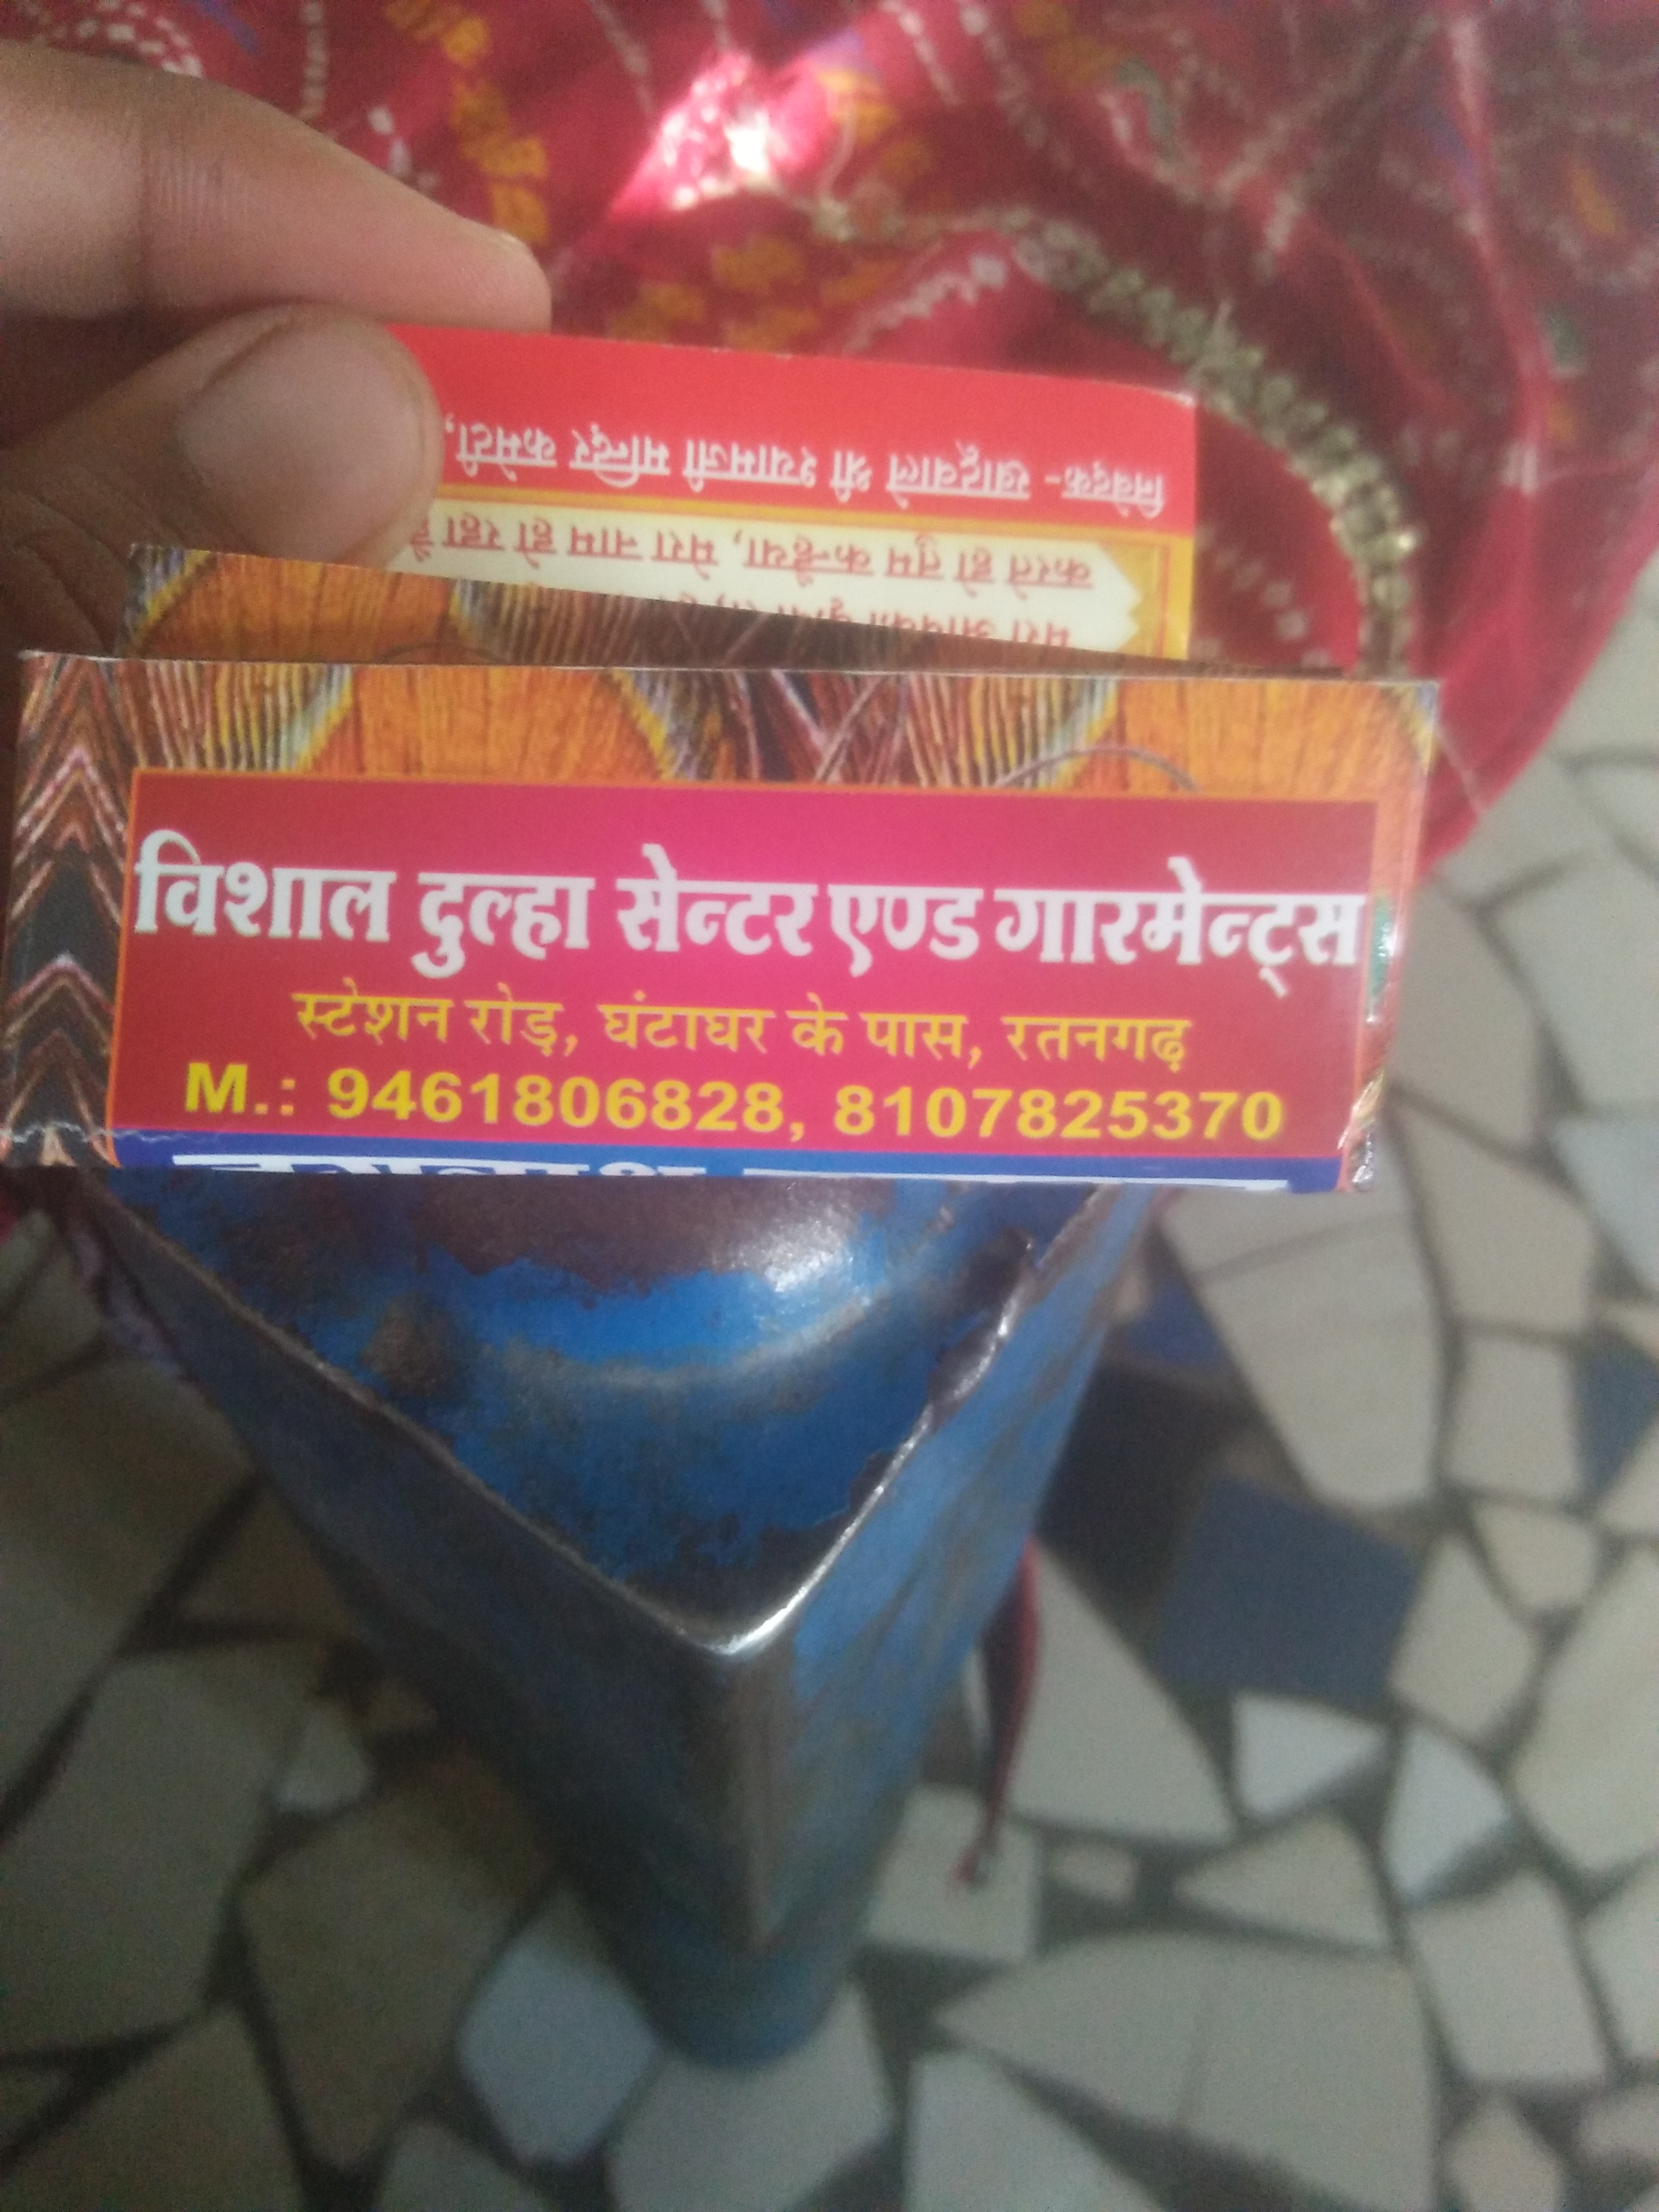text: (89, 726, 1425, 1200), (387, 314, 1216, 664)
